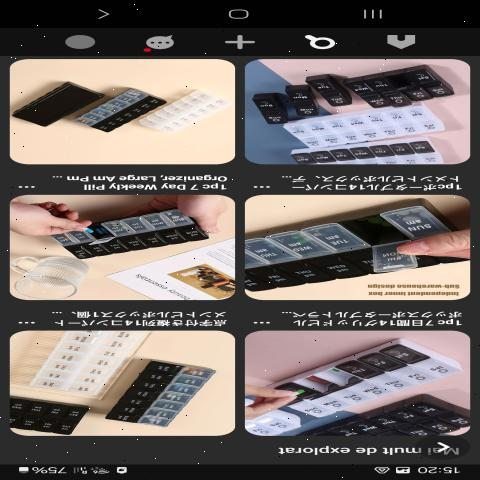PillBox: (228, 200, 473, 290), (260, 333, 452, 418), (22, 201, 202, 259), (102, 354, 213, 429), (4, 78, 107, 134), (76, 88, 174, 135)
